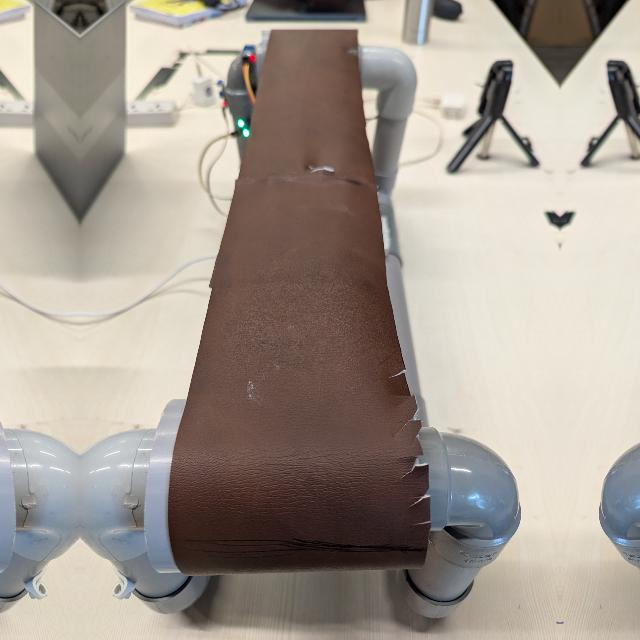edge_damage: (371, 364, 443, 540)
joint_damage: (297, 150, 352, 192)
